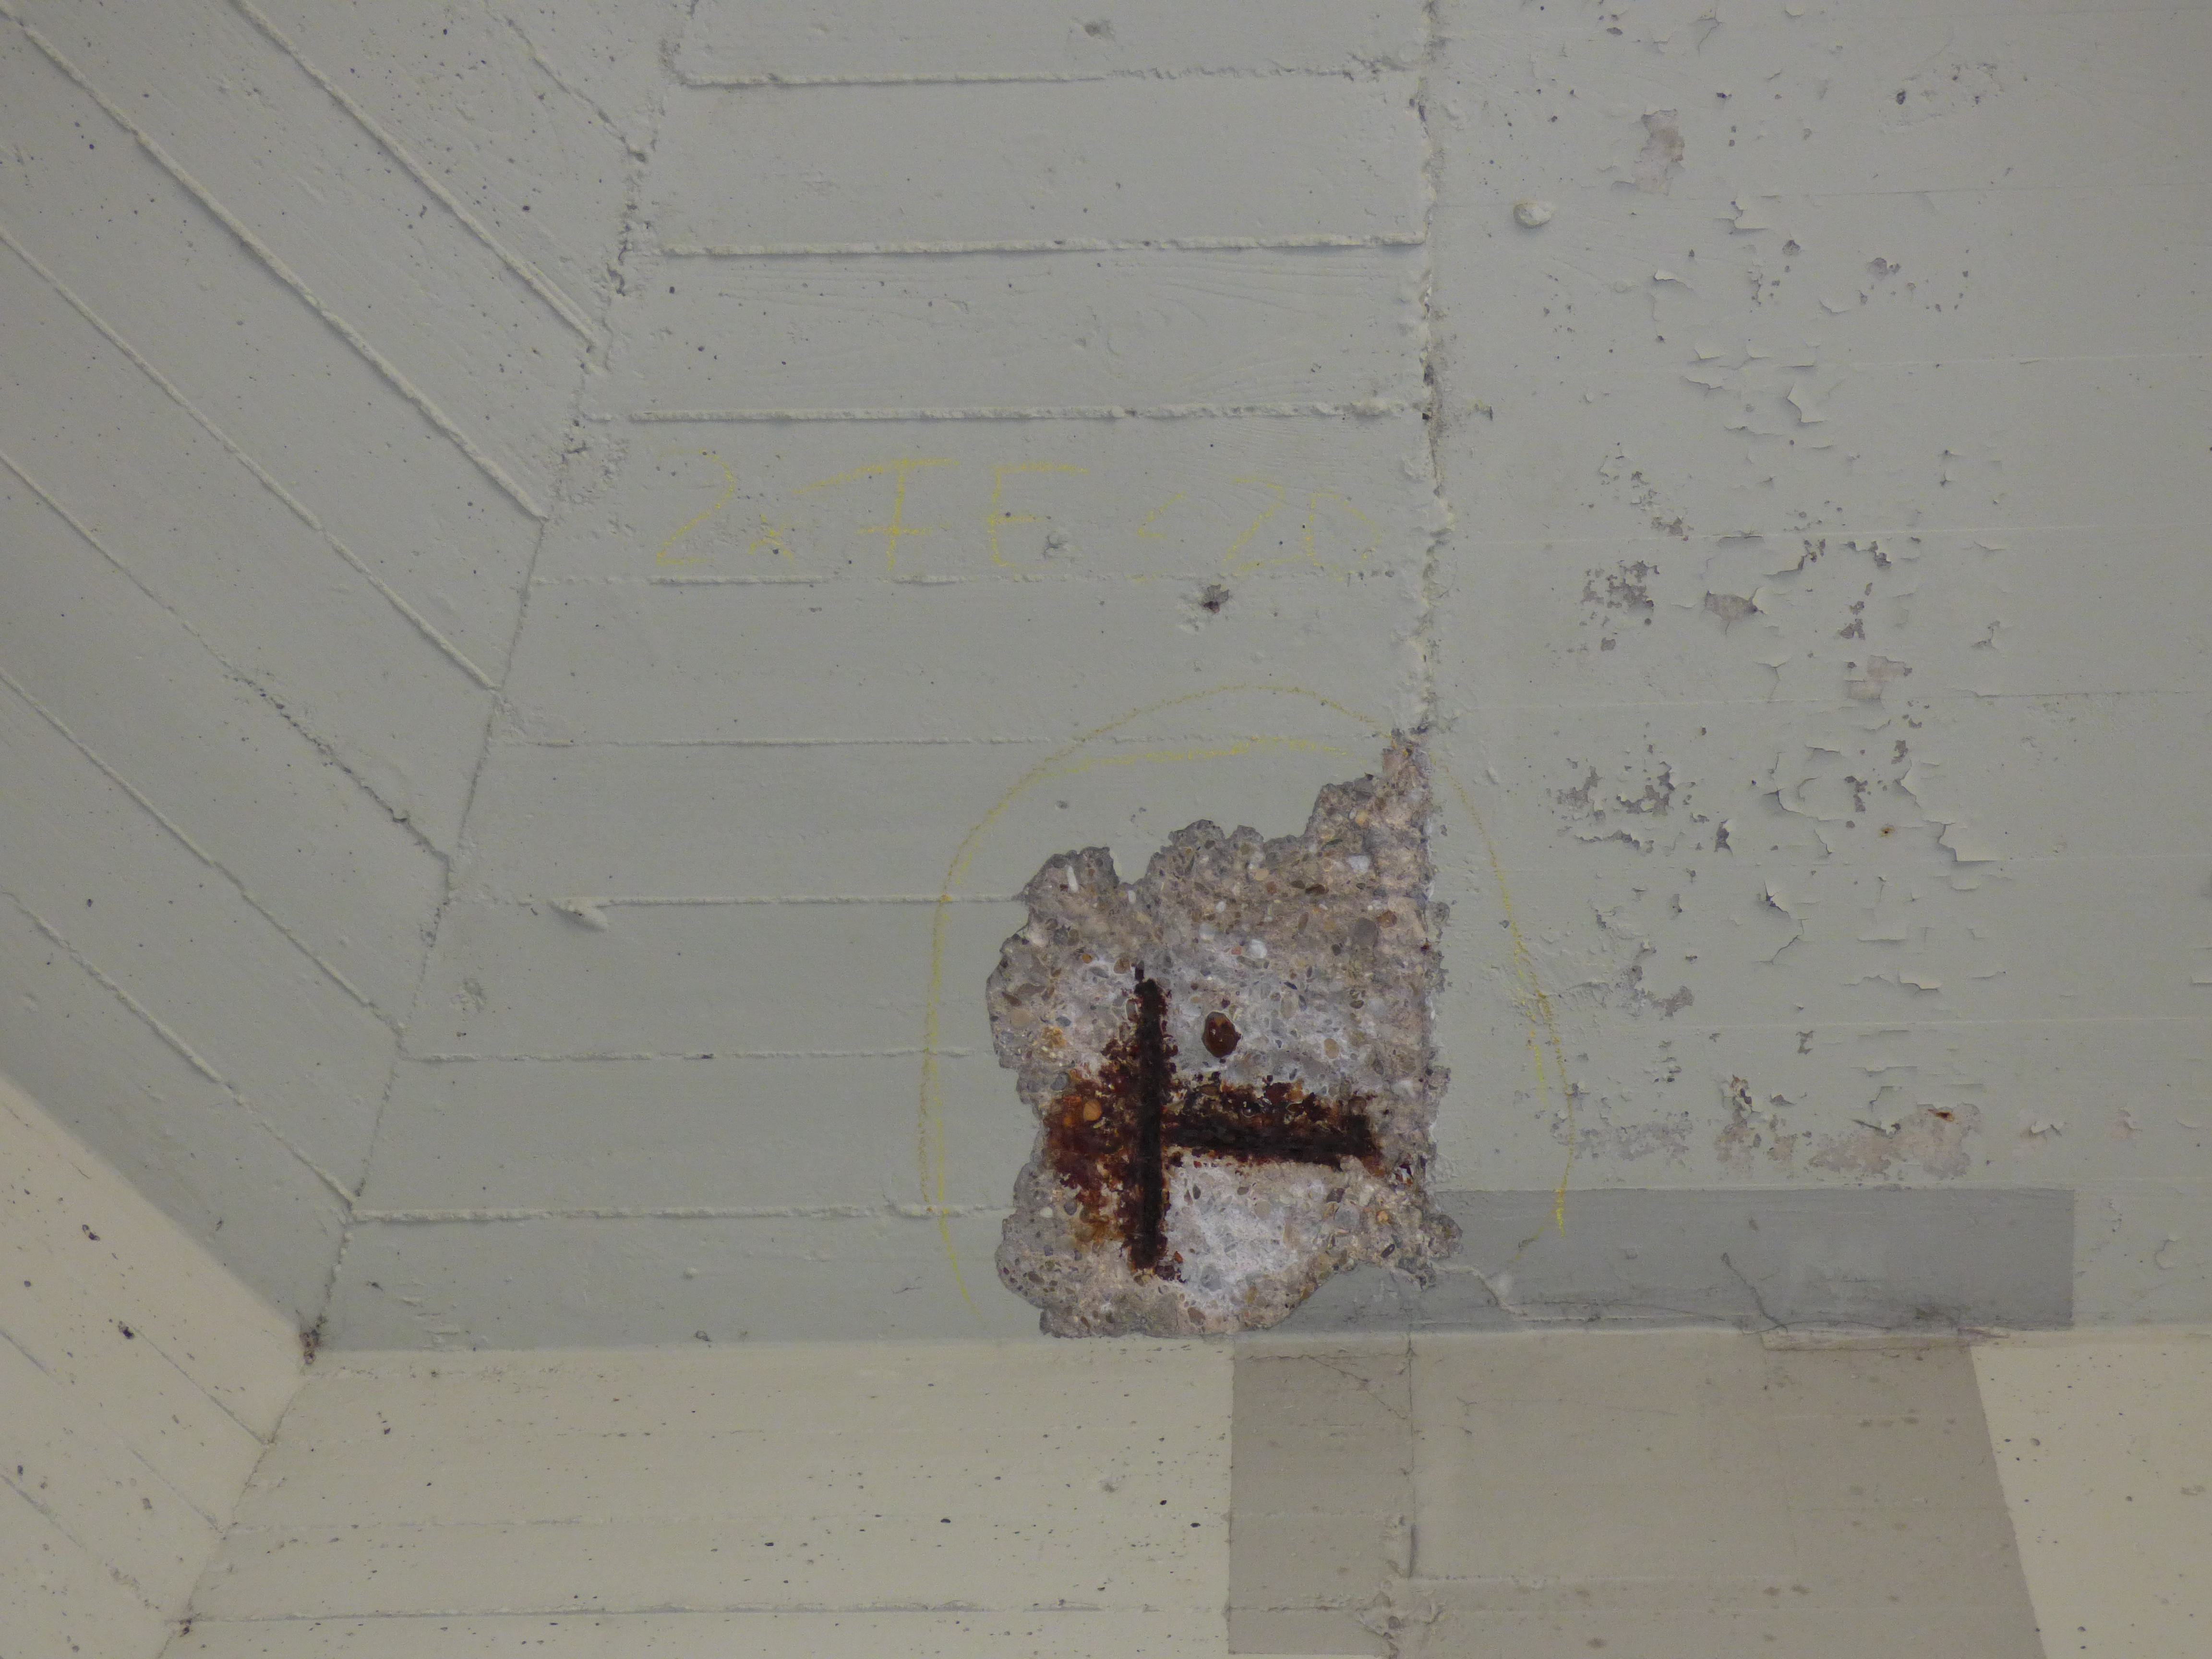Corrosion: (1043, 1032, 1139, 1248), (1200, 1011, 1242, 1060)
Exposed reinforcement: (1139, 978, 1163, 1262), (1176, 1129, 1362, 1155)
Spalling: (984, 721, 1463, 1335)
